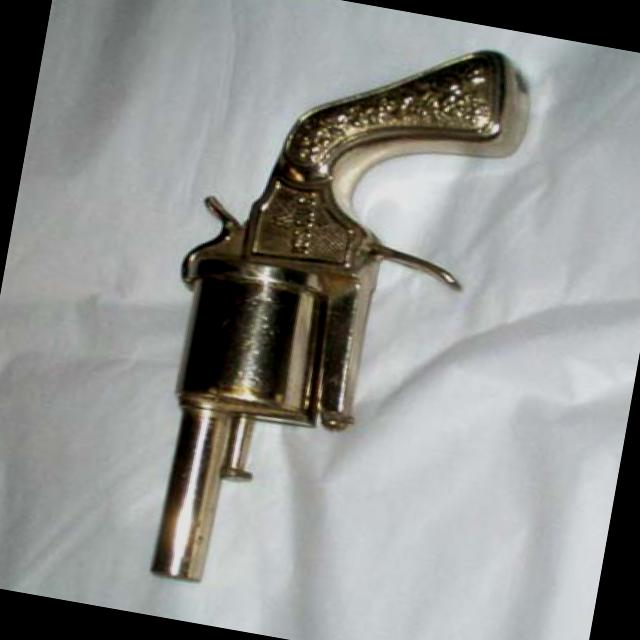handgun: (124, 1, 537, 630)
